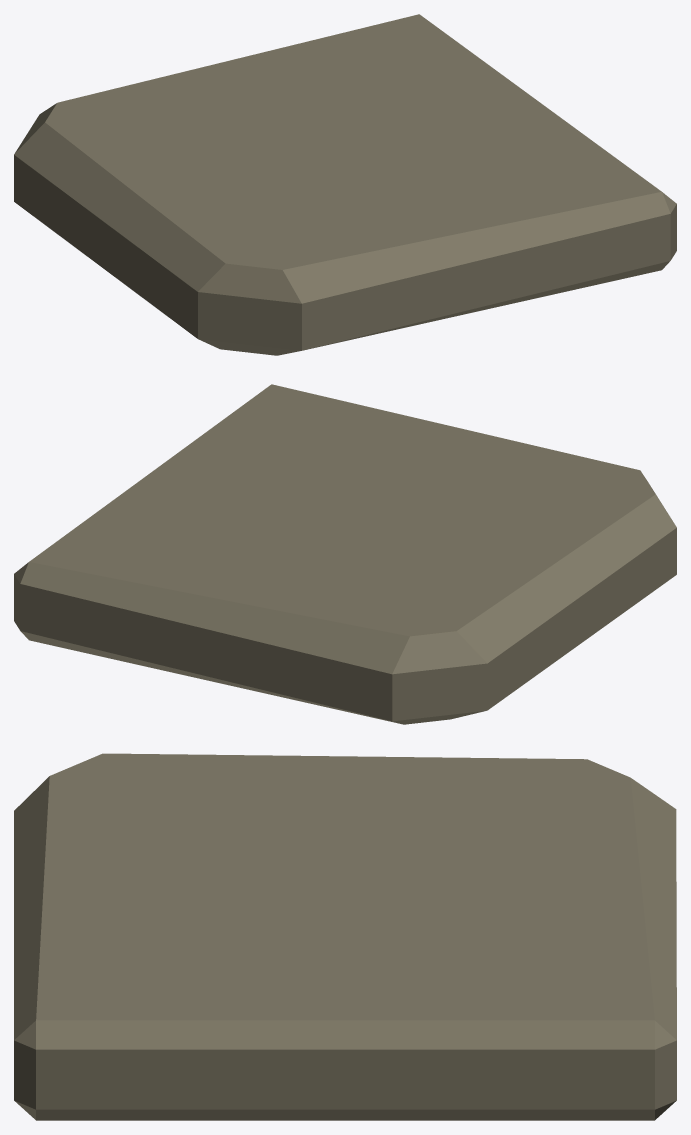
Rendered from flatstone.fbx.
The picture shows the model from 3 angles, top to bottom: view 1: azimuth 30°, elevation 25°; view 2: azimuth 150°, elevation 25°; view 3: azimuth 270°, elevation 25°; orthographic projection. The views are drawn at different scales.
Parts seen in each view (by area): view 1: pCube1; view 2: pCube1; view 3: pCube1.
Boxes of the visible parts, left/top/right/bottom form: pCube1: left=14, top=14, right=676, bottom=355; pCube1: left=14, top=384, right=676, bottom=724; pCube1: left=14, top=753, right=676, bottom=1120.
Bounding box in the file's own units: 99.9 × 18.59 × 100.
